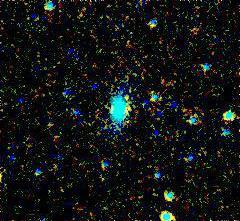star: (111, 82, 141, 112)
